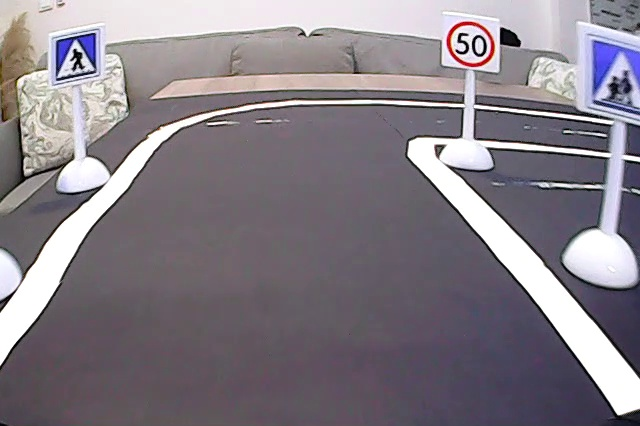pedestrian crossing: (50, 34, 101, 84)
school crossing: (578, 29, 637, 121)
speed limit 50: (442, 13, 500, 69)
